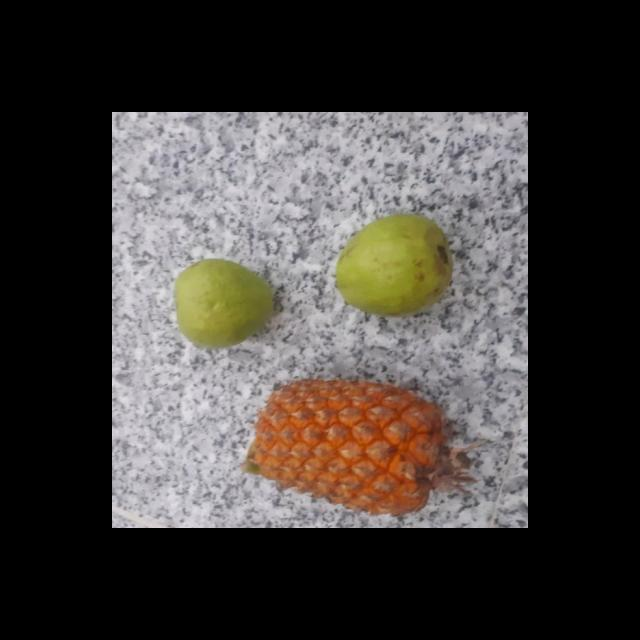guava: (336, 216, 454, 315), (174, 260, 280, 348)
pineapple: (246, 374, 444, 520)
